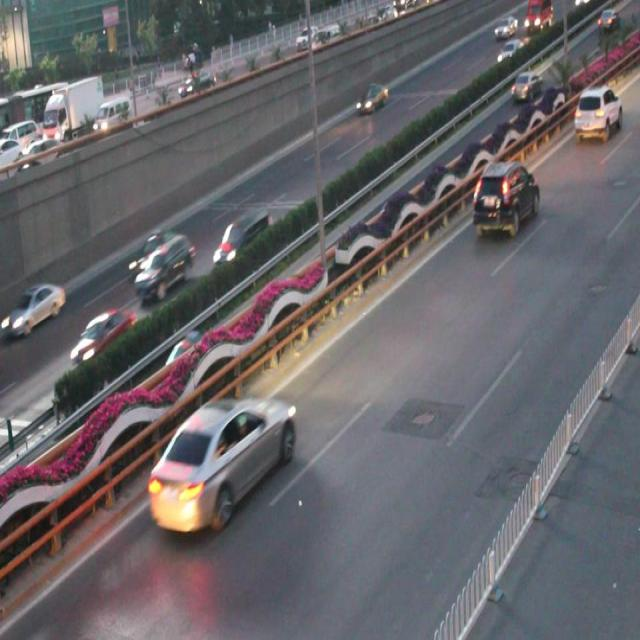car: (148, 395, 297, 533), (471, 164, 541, 240), (136, 233, 196, 299), (68, 309, 136, 364), (1, 284, 65, 339), (212, 212, 274, 267), (571, 86, 622, 140), (128, 228, 181, 274), (161, 330, 211, 368), (354, 85, 389, 113)
